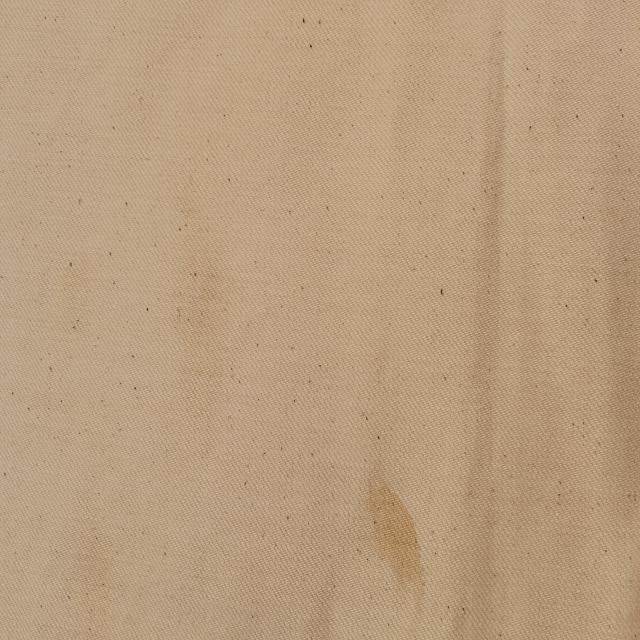taaaches: (358, 463, 430, 609)
